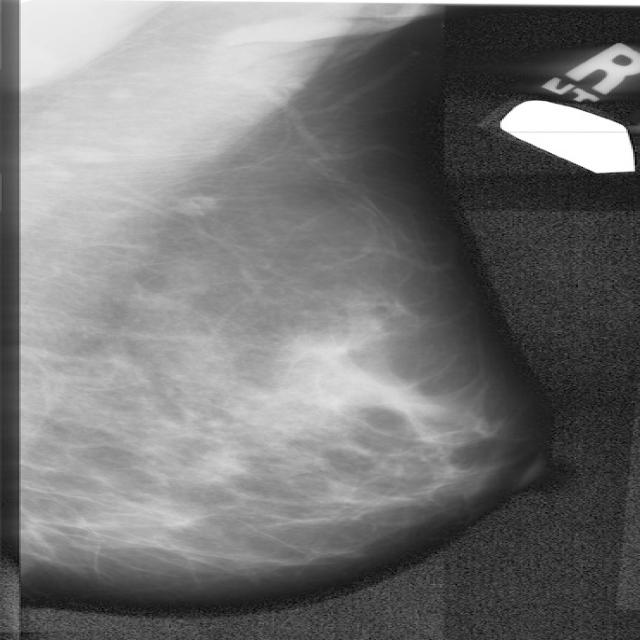tumour: (173, 196, 212, 214)
